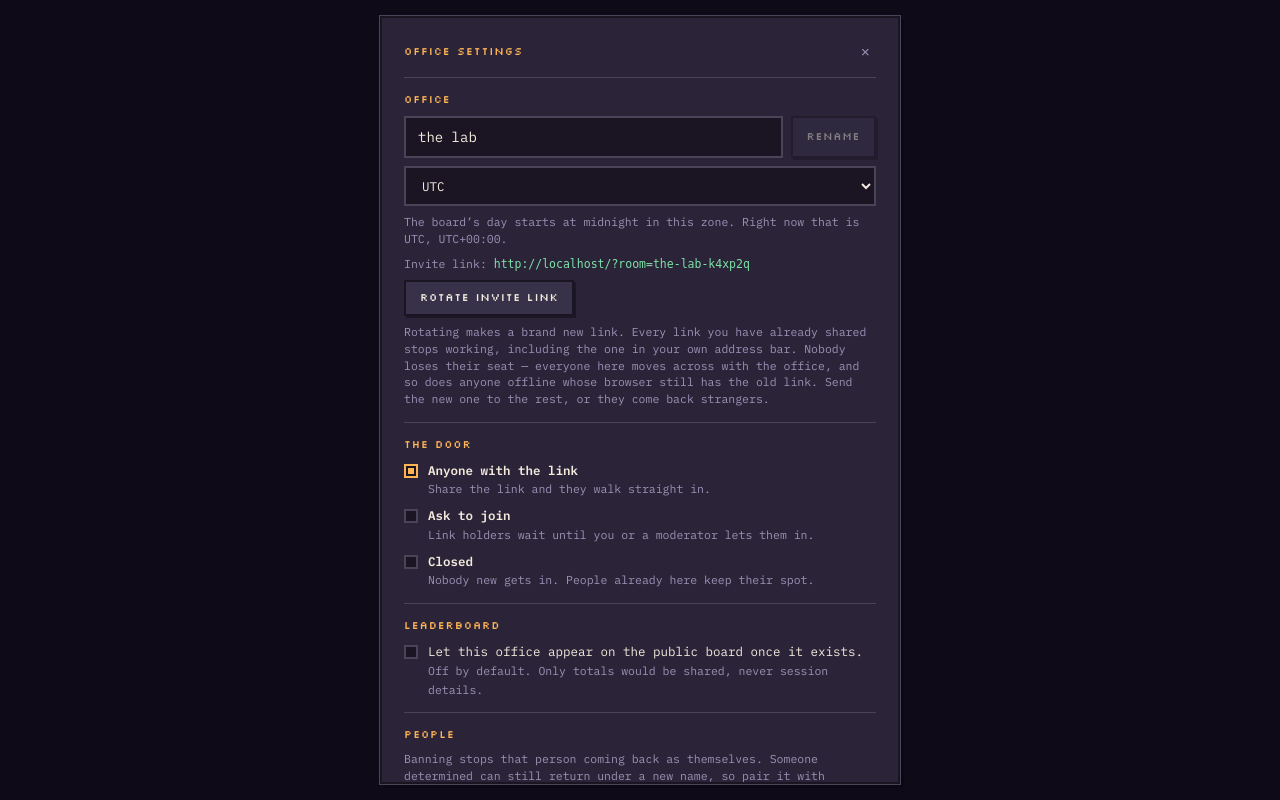
Test: SettingsPanel › rotating the invite link › names what rotating costs, including the tab asking
Click the button "Rotate invite link".
click(489, 298)  # box [404,280,574,316]
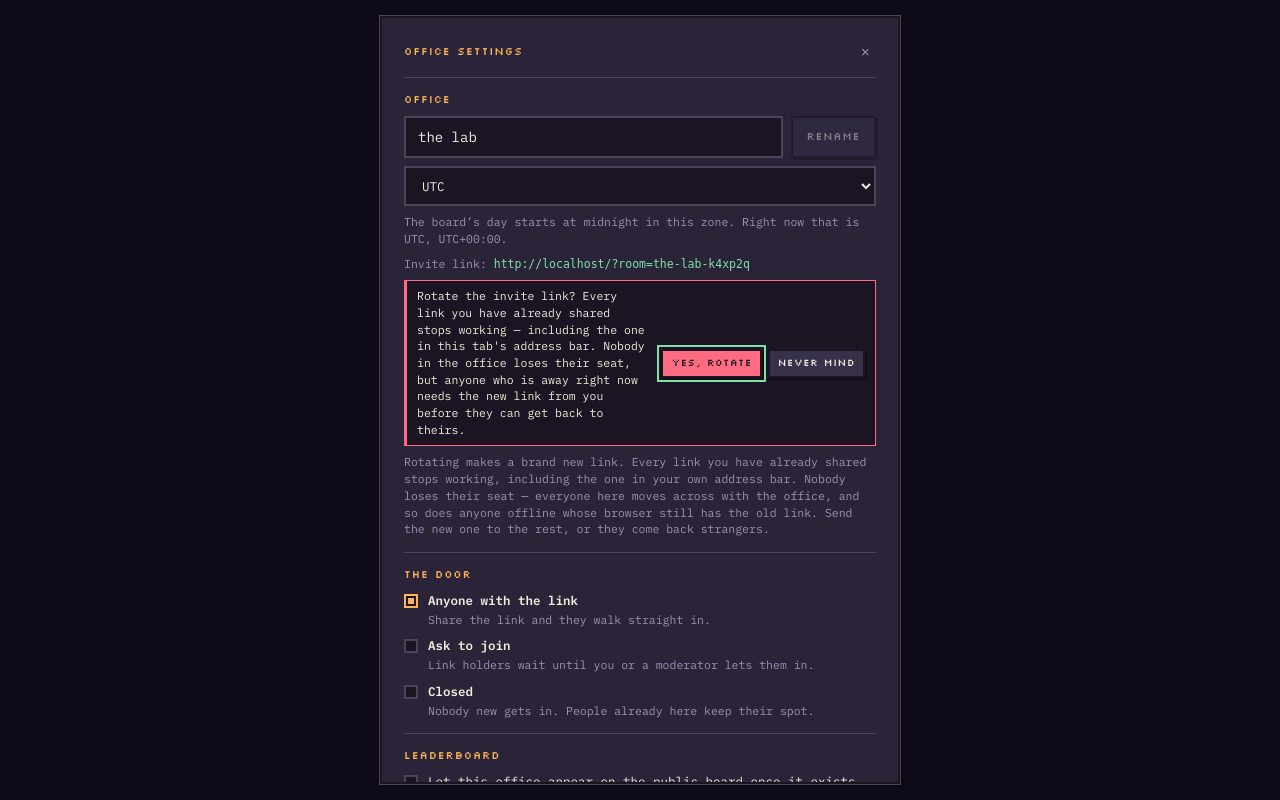
Result: the text "Rotate the invite link?" shows "already shared stops working" at [417,288,645,437]
Result: the text "Rotate the invite link?" shows "this tab's address bar" at [417,288,645,437]
